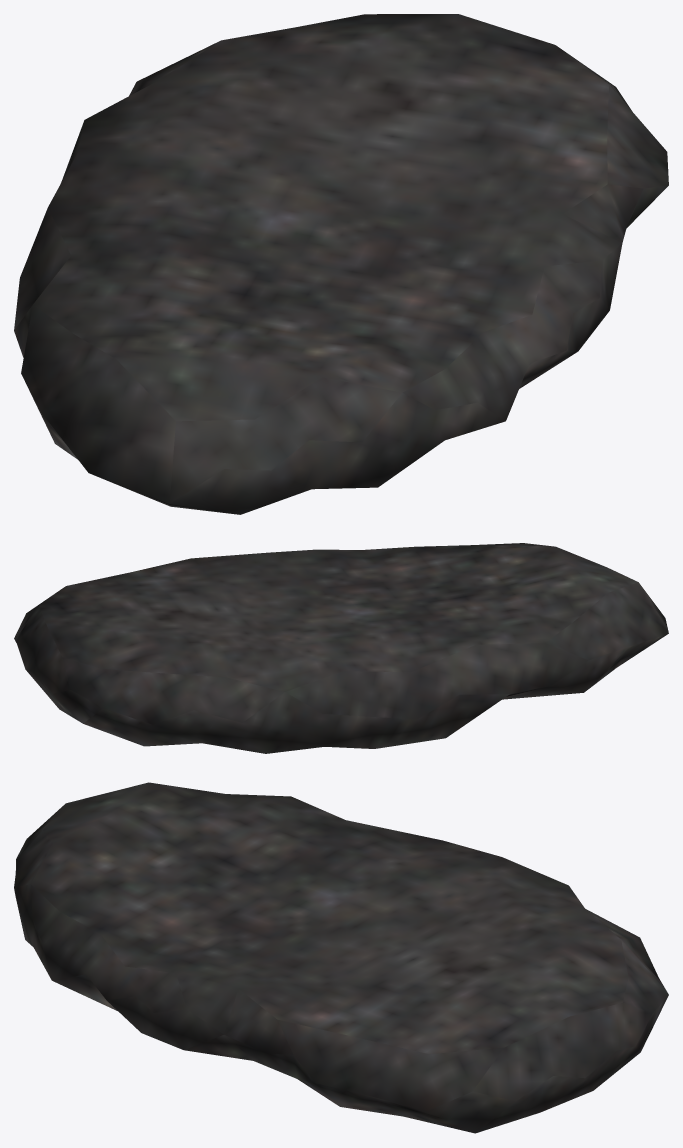
The model's file is rock 12.glb.
3 renders of one model, top to bottom at view 1: azimuth 30°, elevation 25°; view 2: azimuth 150°, elevation 25°; view 3: azimuth 270°, elevation 25°, orthographic. The views are drawn at different scales.
Visible parts, largest first — view 1: AR12; view 2: AR12; view 3: AR12.
Boxes of the visible parts, x1,y1,x2,y2 form: AR12: [14, 14, 668, 514]; AR12: [14, 543, 668, 753]; AR12: [14, 782, 668, 1133].
Bounding box in the file's own units: 8.35 × 1.47 × 7.91.
1 material, 1 textured.
